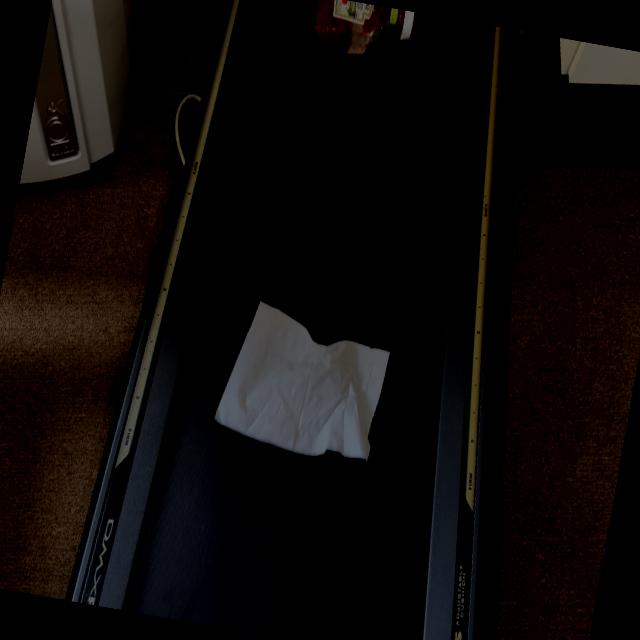Recycle: (207, 293, 397, 477)
Trash: (307, 0, 417, 77)
